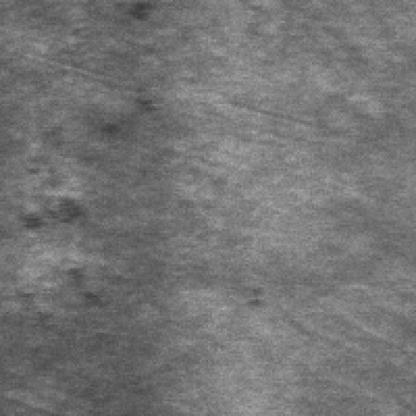rolled-in_scale: (23, 179, 108, 322)
